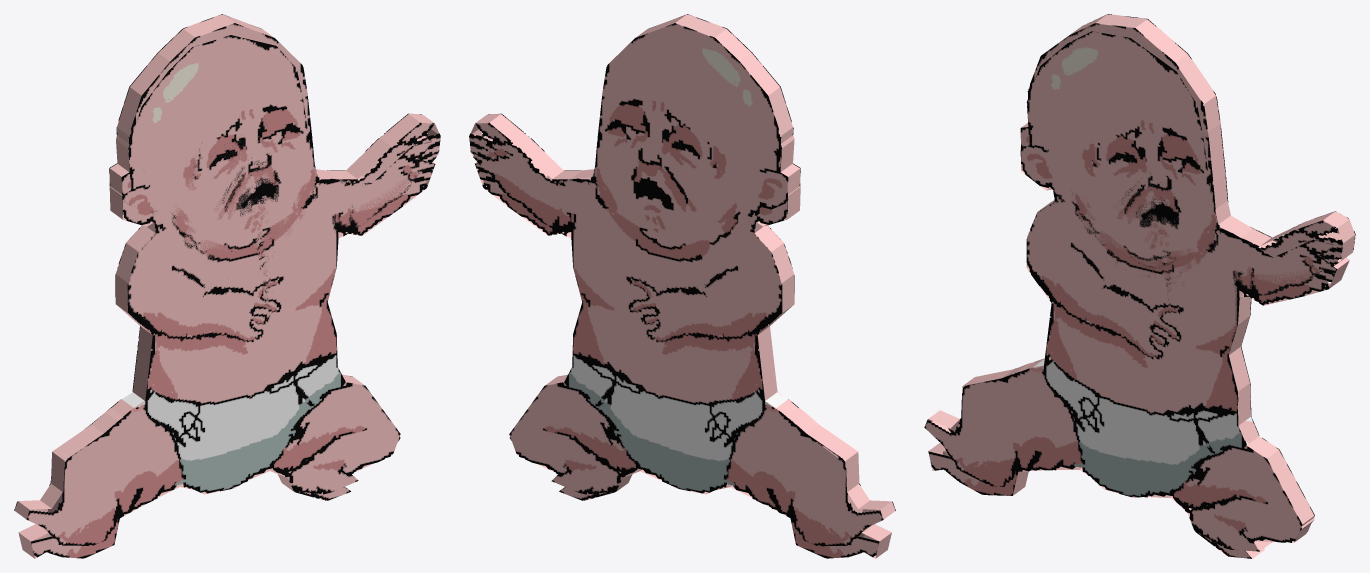
File: baby3D_2.fbx
3 views of the same model, side by side, from view 1: azimuth 30°, elevation 25°; view 2: azimuth 150°, elevation 25°; view 3: azimuth 330°, elevation 25° (orthographic).
Visible parts, largest first — view 1: Plane.001, Plane; view 2: Plane.001, Plane; view 3: Plane.001, Plane.
Boxes of the visible parts, bbox=[...] form: Plane.001: bbox=[14, 14, 440, 545]; Plane: bbox=[18, 35, 435, 558]; Plane.001: bbox=[469, 14, 895, 546]; Plane: bbox=[475, 129, 891, 558]; Plane.001: bbox=[924, 14, 1355, 551]; Plane: bbox=[928, 31, 1349, 558].
Bounding box in the file's own units: 351 × 405 × 18.81.
Materials: 2 (2 with a texture image).
